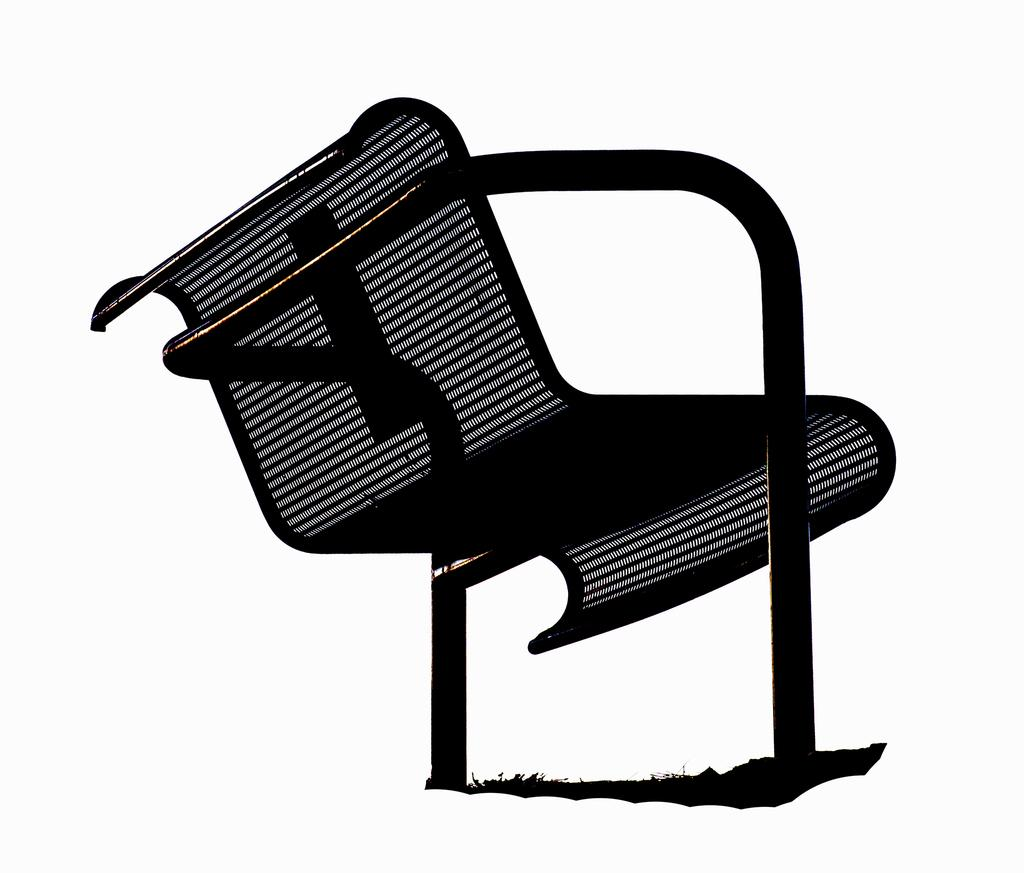Chair: (83, 94, 904, 795)
